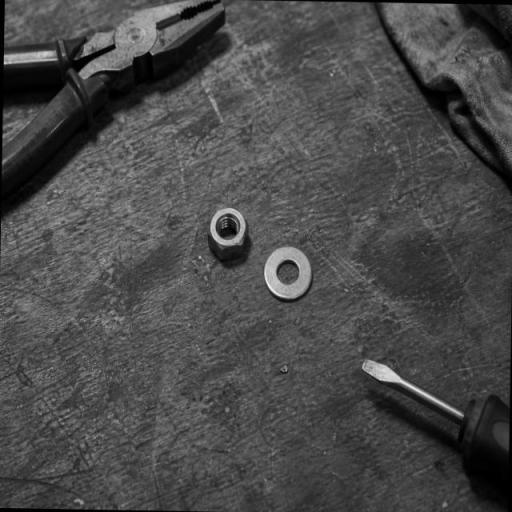Nut: (209, 206, 250, 259)
Washer: (263, 246, 312, 301)
